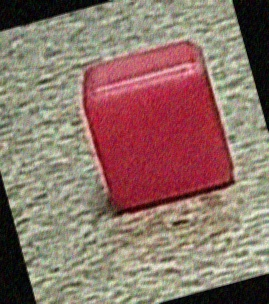red_cube: (61, 40, 243, 218)
